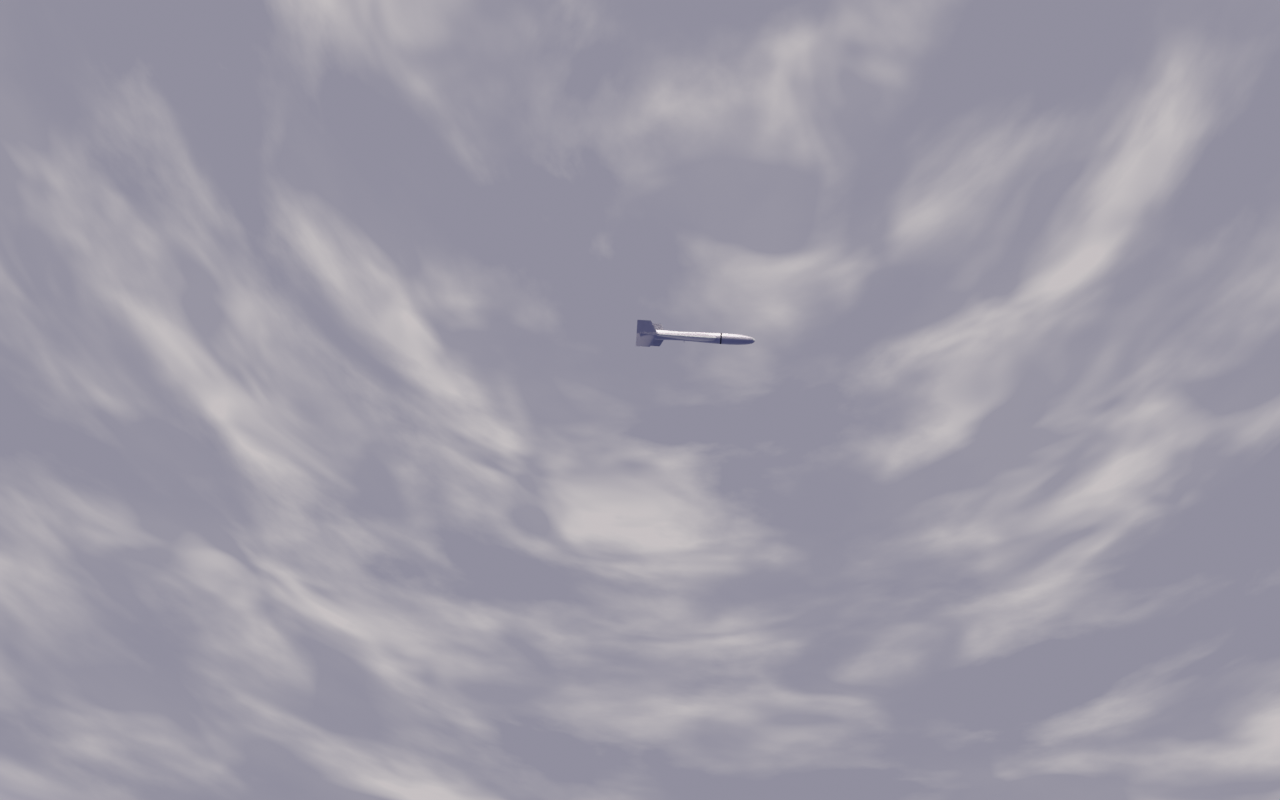shahed: (636, 319, 757, 349)
